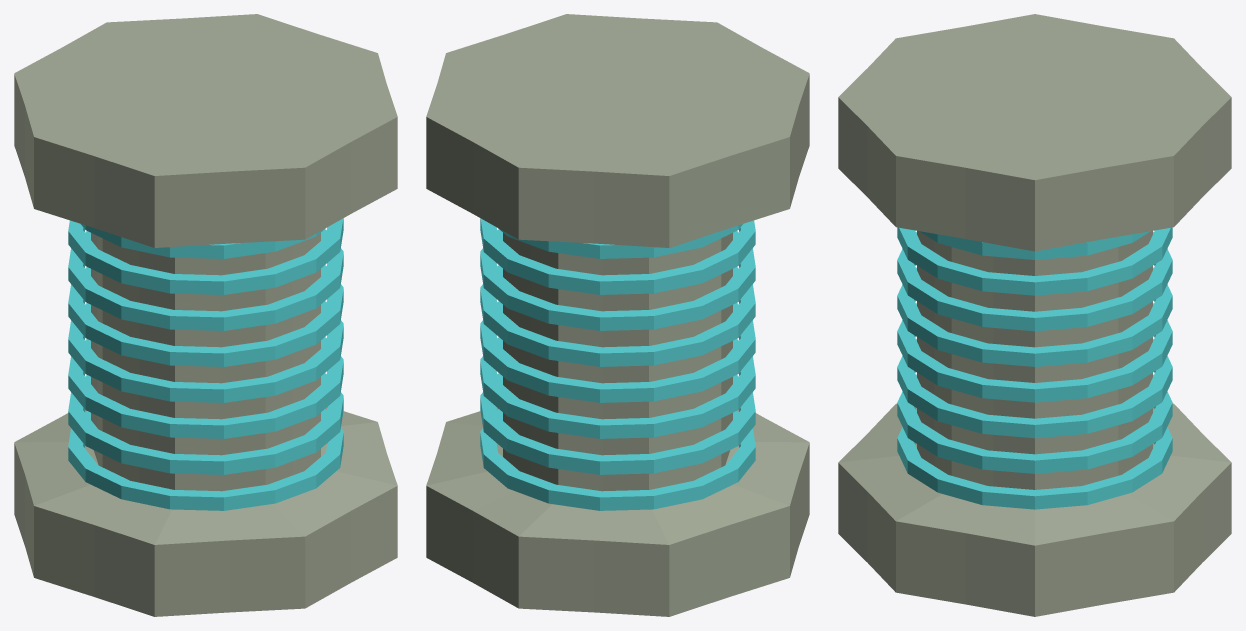
Rendered from binding_spool.fbx.
The picture shows the model from 3 angles, left to right: view 1: azimuth 30°, elevation 25°; view 2: azimuth 150°, elevation 25°; view 3: azimuth 270°, elevation 25°; orthographic projection.
Visible parts, largest first — view 1: spool, thread_4, thread_5, thread_1, thread_0, thread_2, thread_3, thread_6, thread_7; view 2: spool, thread_4, thread_5, thread_1, thread_0, thread_2, thread_3, thread_6, thread_7; view 3: spool, thread_3, thread_0, thread_4, thread_1, thread_2, thread_5, thread_6, thread_7.
Part boxes in pixels (x1,y1,x2,y2): spool: (14,14,397,616); thread_4: (68,265,343,366); thread_5: (68,229,343,330); thread_1: (68,373,343,474); thread_0: (68,409,343,510); thread_2: (68,337,343,438); thread_3: (68,301,343,402); thread_6: (68,218,343,294); thread_7: (81,224,325,258); spool: (426,14,809,616); thread_4: (480,265,755,366); thread_5: (480,229,755,330); thread_1: (480,373,755,474); thread_0: (480,409,755,510); thread_2: (480,337,755,438); thread_3: (480,301,755,402); thread_6: (480,218,755,294); thread_7: (498,224,742,258); spool: (838,14,1231,616); thread_3: (897,303,1172,402); thread_0: (897,410,1172,509); thread_4: (897,267,1172,366); thread_1: (897,374,1172,473); thread_2: (897,339,1172,438); thread_5: (897,232,1172,331); thread_6: (897,227,1172,295); thread_7: (919,231,1150,259).
Size of the model in its own units: 40 by 49 by 40.
